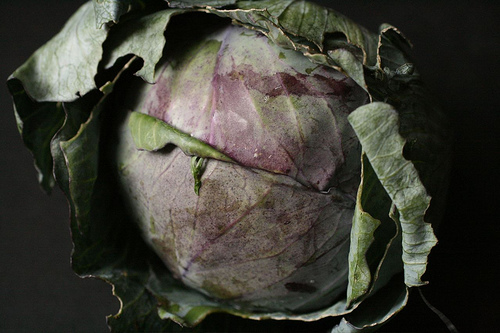cabbage: (1, 0, 461, 332)
